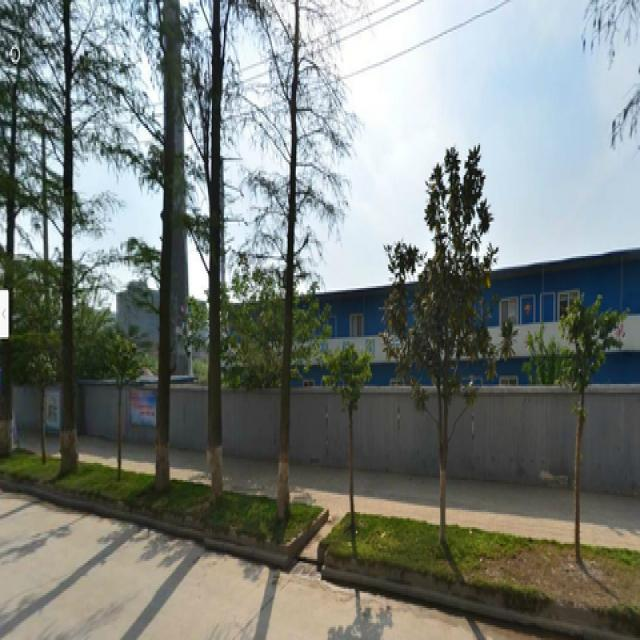magn: (401, 145, 504, 550)
